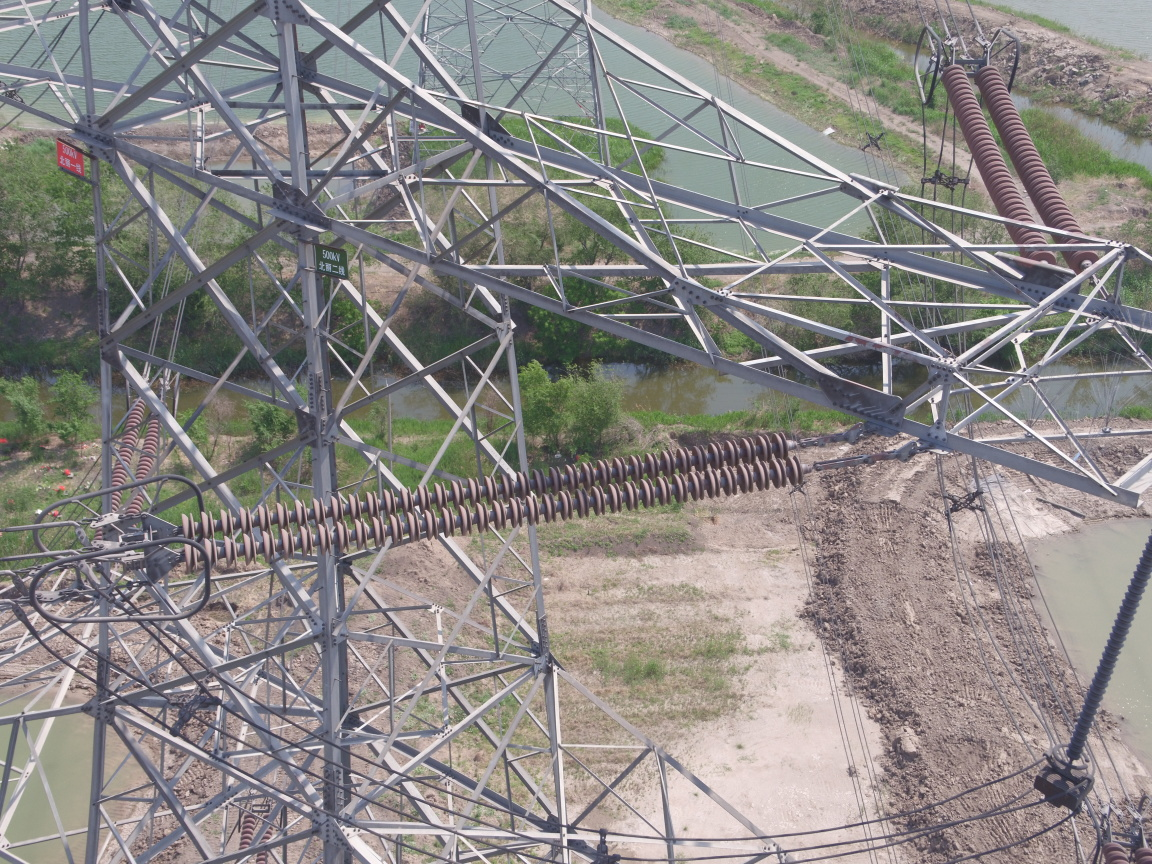insulator: (164, 427, 844, 577), (932, 57, 1105, 276)
